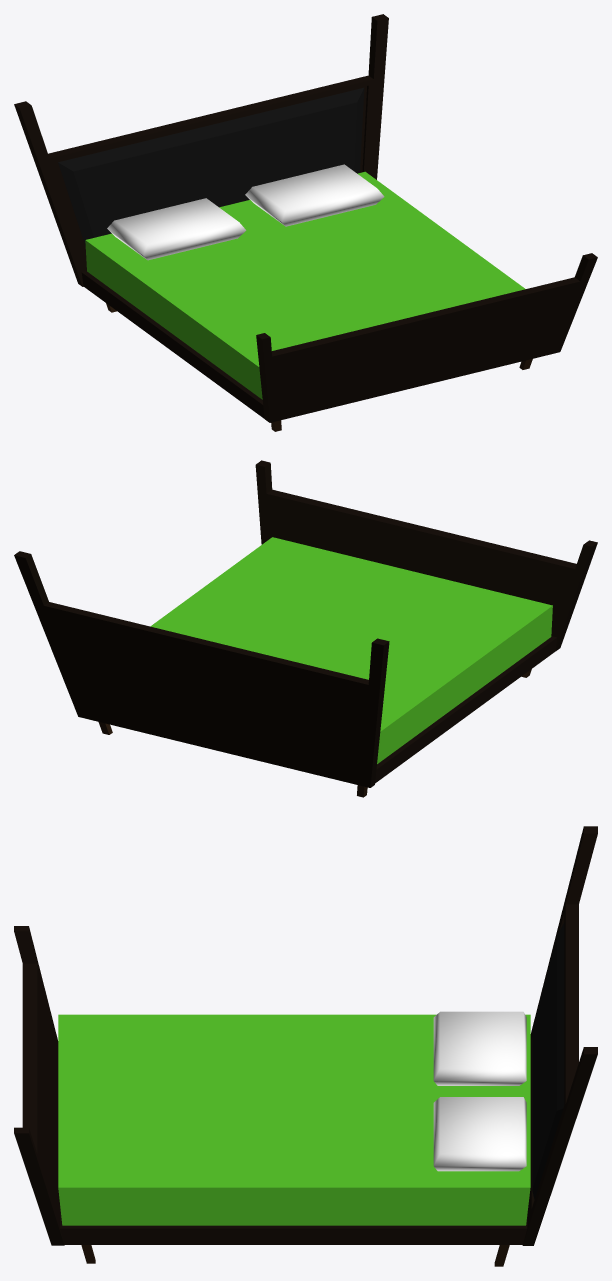
Rendered from House_MasterBedRoom_Bed.FBX.
3 views of the same model, one above another, from view 1: azimuth 30°, elevation 25°; view 2: azimuth 150°, elevation 25°; view 3: azimuth 270°, elevation 25° (orthographic). The views are drawn at different scales.
Parts seen in each view (by area): view 1: House_MasterBedRoom_Bed_headboard, House_MasterBedRoom_Bed_footboard, House_MasterBedRoom_Bed_matress_chunk2, House_MasterBedRoom_Bed_matress_chunk1, House_MasterBedRoom_Bed_matress_chunk3, House_MasterBedRoom_Bed_pillow1, House_MasterBedRoom_Bed_pillow2, House_MasterBedRoom_Bed_frame_chunk, House_MasterBedRoom_Bed_frame_chunk2; view 2: House_MasterBedRoom_Bed_headboard, House_MasterBedRoom_Bed_matress_chunk2, House_MasterBedRoom_Bed_footboard, House_MasterBedRoom_Bed_matress_chunk3, House_MasterBedRoom_Bed_matress_chunk1, House_MasterBedRoom_Bed_frame_chunk, House_MasterBedRoom_Bed_frame_chunk2; view 3: House_MasterBedRoom_Bed_matress_chunk2, House_MasterBedRoom_Bed_matress_chunk1, House_MasterBedRoom_Bed_matress_chunk3, House_MasterBedRoom_Bed_headboard, House_MasterBedRoom_Bed_footboard, House_MasterBedRoom_Bed_frame_chunk2, House_MasterBedRoom_Bed_pillow2, House_MasterBedRoom_Bed_pillow1, House_MasterBedRoom_Bed_frame_chunk.
Boxes of the visible parts, x1,y1,x2,y2 form: House_MasterBedRoom_Bed_headboard: (14, 14, 388, 286); House_MasterBedRoom_Bed_footboard: (256, 253, 597, 422); House_MasterBedRoom_Bed_matress_chunk2: (131, 236, 498, 380); House_MasterBedRoom_Bed_matress_chunk1: (85, 171, 453, 303); House_MasterBedRoom_Bed_matress_chunk3: (223, 269, 525, 399); House_MasterBedRoom_Bed_pillow1: (245, 164, 384, 226); House_MasterBedRoom_Bed_pillow2: (107, 198, 246, 260); House_MasterBedRoom_Bed_frame_chunk: (81, 271, 218, 380); House_MasterBedRoom_Bed_frame_chunk2: (213, 359, 532, 431); House_MasterBedRoom_Bed_headboard: (14, 551, 389, 787); House_MasterBedRoom_Bed_matress_chunk2: (174, 575, 517, 738); House_MasterBedRoom_Bed_footboard: (255, 460, 597, 651); House_MasterBedRoom_Bed_matress_chunk3: (220, 537, 552, 661); House_MasterBedRoom_Bed_matress_chunk1: (150, 609, 427, 763); House_MasterBedRoom_Bed_frame_chunk: (98, 675, 505, 797); House_MasterBedRoom_Bed_frame_chunk2: (500, 636, 556, 688); House_MasterBedRoom_Bed_matress_chunk2: (158, 1014, 373, 1225); House_MasterBedRoom_Bed_matress_chunk1: (307, 1014, 530, 1225); House_MasterBedRoom_Bed_matress_chunk3: (58, 1014, 191, 1225); House_MasterBedRoom_Bed_headboard: (522, 826, 597, 1245); House_MasterBedRoom_Bed_footboard: (14, 926, 64, 1245); House_MasterBedRoom_Bed_frame_chunk2: (60, 1206, 465, 1263); House_MasterBedRoom_Bed_pillow2: (433, 1011, 526, 1085); House_MasterBedRoom_Bed_pillow1: (433, 1097, 526, 1171); House_MasterBedRoom_Bed_frame_chunk: (456, 1217, 527, 1266).
Bounding box in the file's own units: 441 × 220 × 477.
